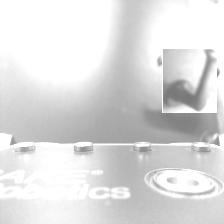Door Handle: (159, 50, 220, 111)
